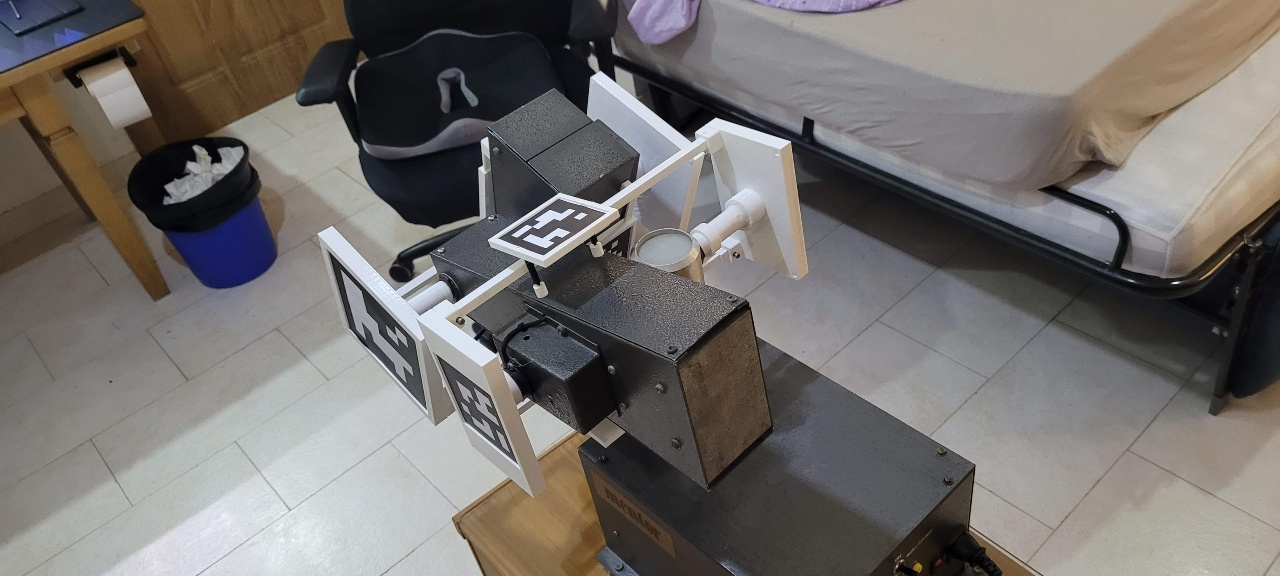Robot: (318, 69, 811, 499)
